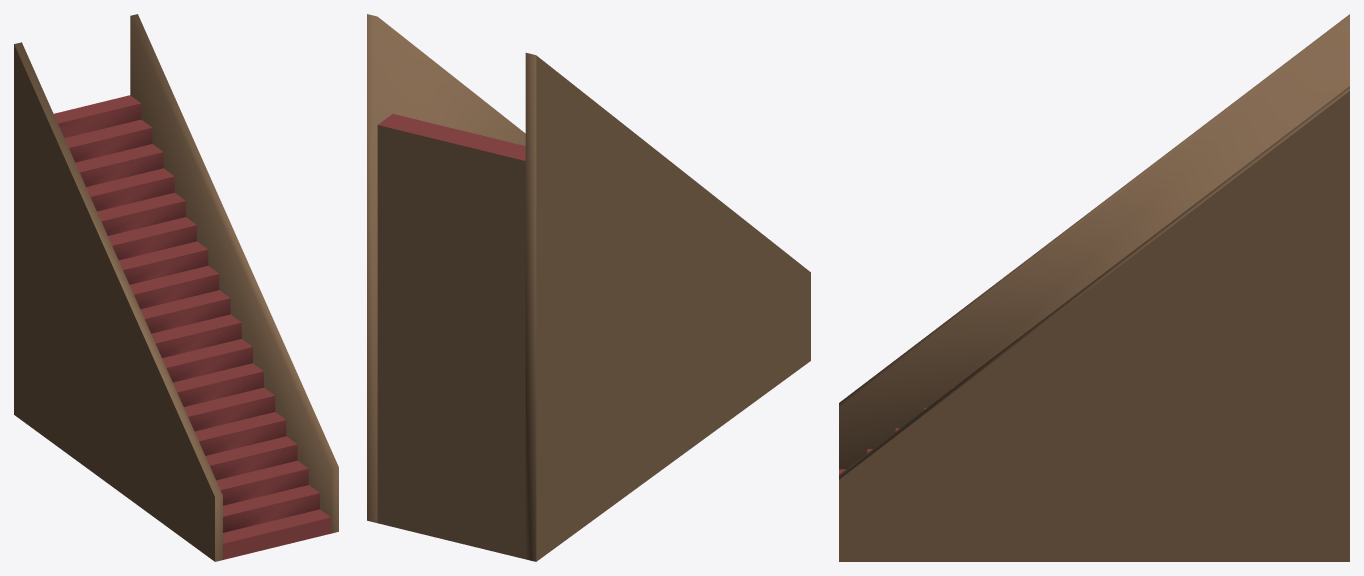
File: escada.fbx
3 renders of one model, left to right at view 1: azimuth 30°, elevation 25°; view 2: azimuth 150°, elevation 25°; view 3: azimuth 270°, elevation 25°, orthographic. The views are drawn at different scales.
Visible parts, largest first — view 1: escada; view 2: escada; view 3: escada.
Part boxes in pixels (bbox=[...]): escada: bbox=[14, 14, 338, 561]; escada: bbox=[367, 14, 810, 561]; escada: bbox=[839, 14, 1349, 561].
Bounding box in the file's own units: 1.6 × 4.5 × 4.58.
